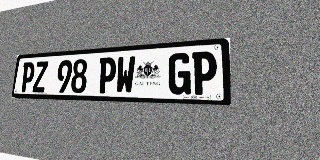8: (70, 59, 88, 93)
9: (56, 60, 73, 93)
G: (168, 52, 191, 95)
P: (192, 51, 217, 95), (97, 57, 117, 93), (20, 62, 36, 92)
W: (115, 56, 136, 94)
Z: (32, 61, 48, 92)
